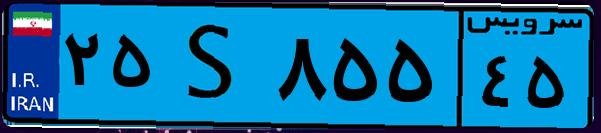2: (57, 26, 110, 100)
4: (475, 38, 525, 113)
5: (385, 28, 445, 110), (330, 28, 385, 110), (525, 38, 570, 115), (110, 28, 158, 98)
8: (270, 28, 330, 110)
S: (158, 12, 270, 120)
